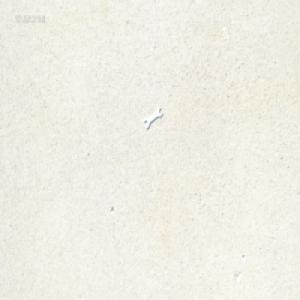Wrench: (143, 107, 163, 129)
